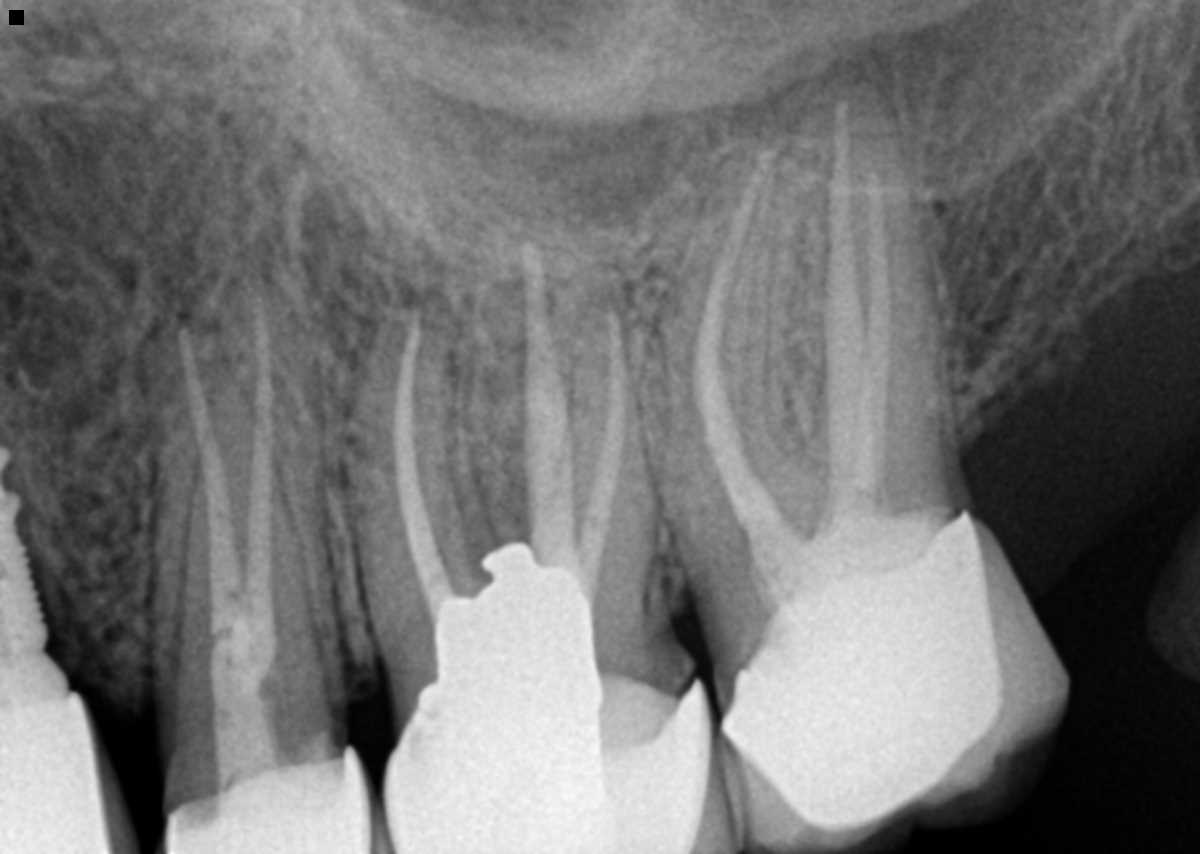Distal Root: (806, 178, 965, 496), (544, 309, 677, 649)
Main Root: (139, 320, 326, 707), (184, 273, 342, 726)
Mesial Root: (641, 141, 803, 574), (346, 299, 491, 638)
Palatal Root: (402, 230, 689, 686), (722, 71, 965, 571)
Root Canal Filling: (691, 147, 798, 573), (176, 329, 259, 687), (231, 275, 277, 697), (824, 101, 874, 489), (522, 243, 580, 569), (568, 310, 629, 598), (396, 314, 450, 594), (848, 173, 888, 489)
